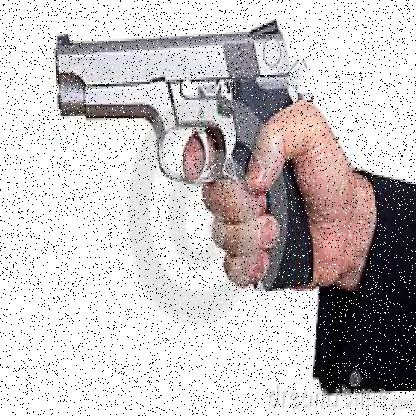pistol: (54, 18, 317, 291)
